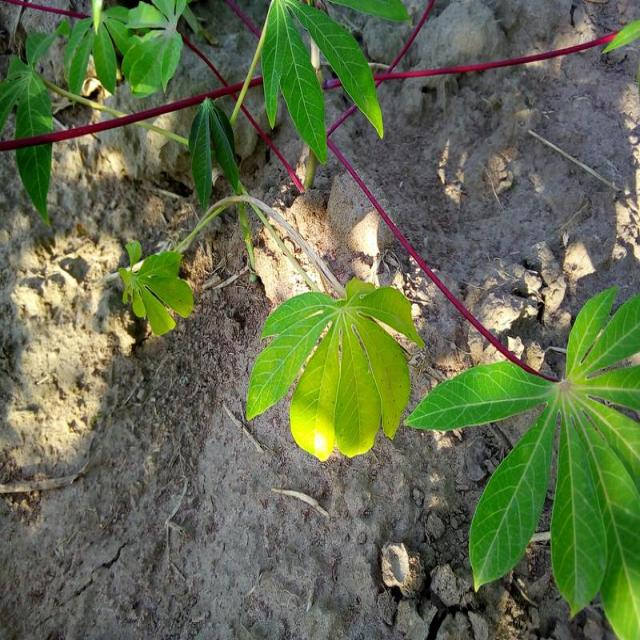Mosaico: (250, 284, 436, 450), (538, 322, 640, 549), (110, 239, 175, 325)
